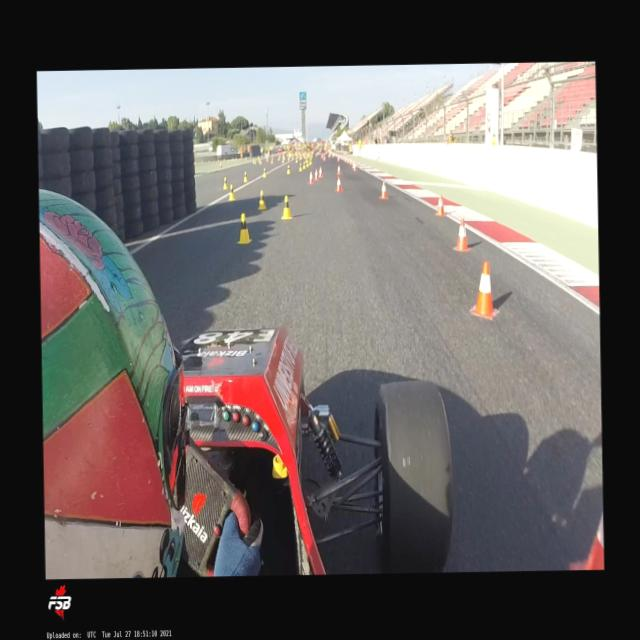orange_cone: (568, 511, 604, 570), (468, 260, 498, 319), (452, 217, 471, 252), (435, 194, 445, 216), (378, 182, 388, 200), (334, 175, 342, 192), (308, 170, 313, 183), (313, 168, 318, 180), (336, 163, 341, 174), (318, 166, 322, 178), (353, 162, 356, 171), (348, 158, 351, 164), (352, 160, 354, 168), (346, 157, 348, 163)
yellow_cone: (236, 212, 252, 244), (280, 195, 292, 219), (257, 190, 266, 210), (228, 183, 235, 200), (222, 176, 228, 188), (242, 170, 248, 182), (262, 167, 266, 178), (286, 164, 290, 174), (298, 162, 302, 172), (302, 161, 305, 169), (306, 158, 308, 167), (308, 158, 310, 164)
